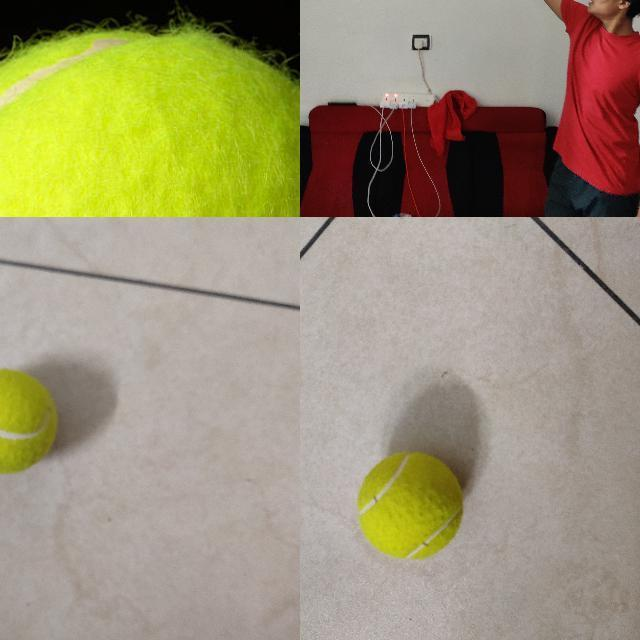tennis-ball: (0, 34, 299, 216), (357, 452, 464, 561), (0, 369, 57, 473)
